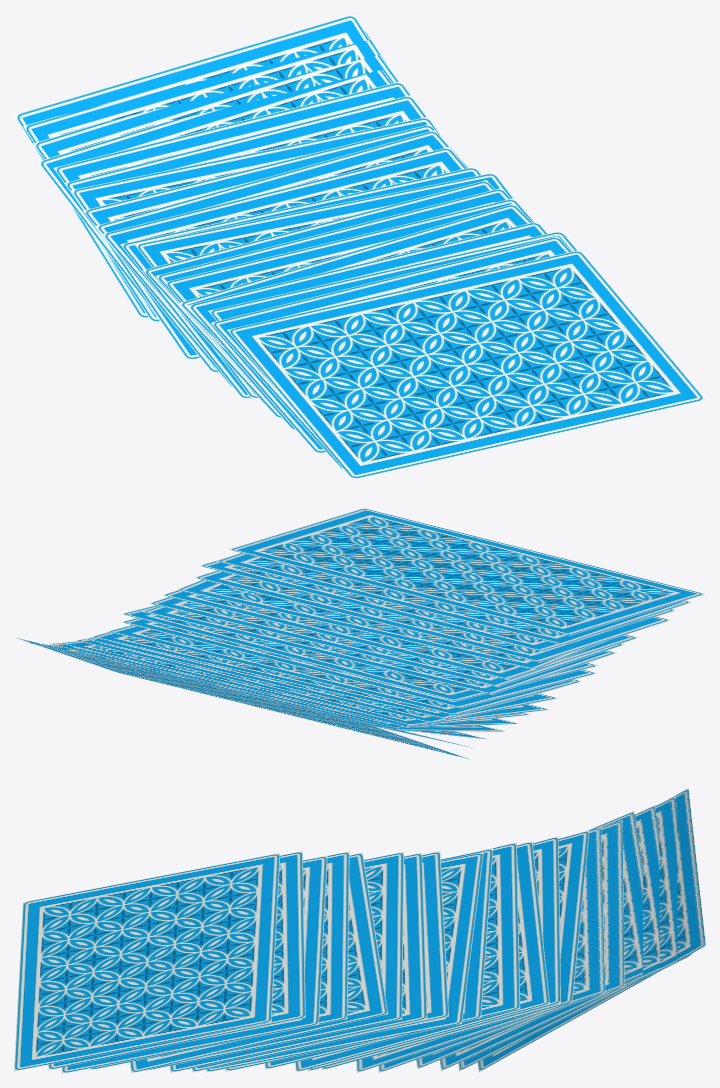
3 views of the same model, one above another, from view 1: azimuth 30°, elevation 25°; view 2: azimuth 150°, elevation 25°; view 3: azimuth 270°, elevation 25° (orthographic).
Visible parts, largest first — view 1: Cards; view 2: Cards; view 3: Cards.
Boxes of the visible parts, <box> form: Cards: <box>14,14,705,479</box>; Cards: <box>16,508,705,759</box>; Cards: <box>14,788,705,1073</box>.
Bounding box in the file's own units: 1.59 × 0.5445 × 2.62.
Materials: 1 (1 with a texture image).
